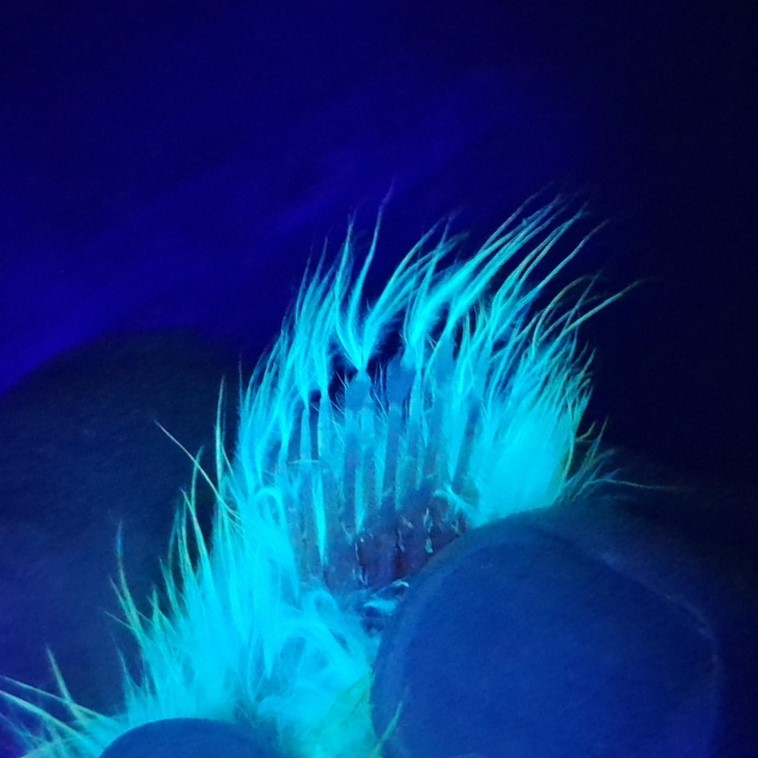male: (234, 356, 506, 616)
